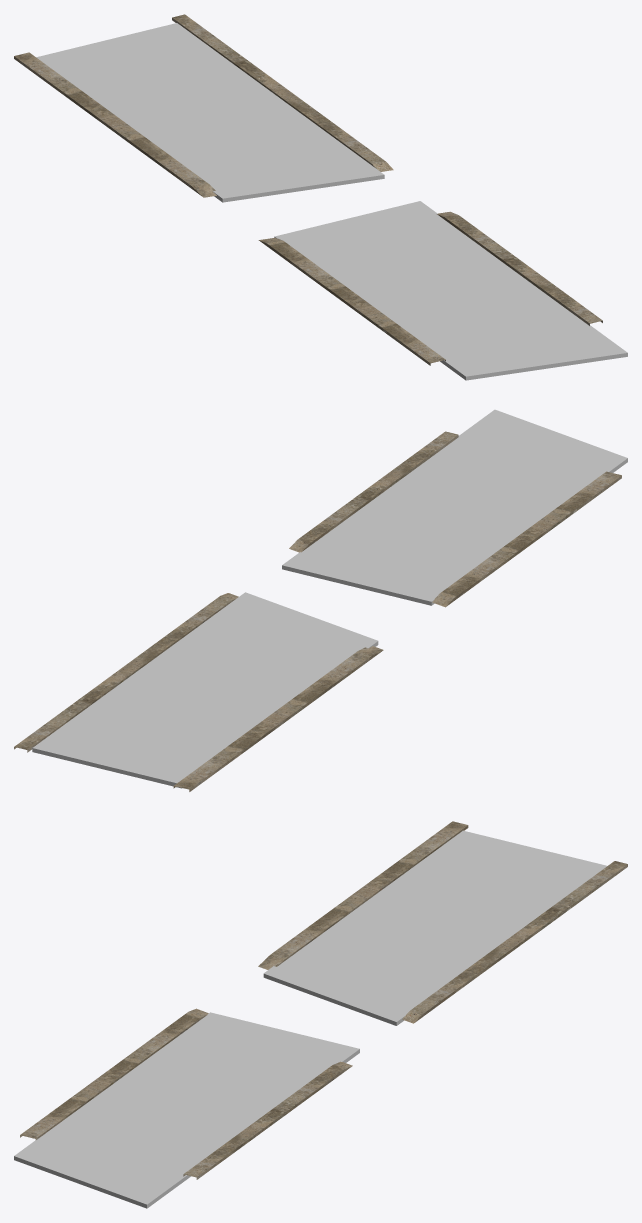
Rendered from calle.fbx.
3 renders of one model, top to bottom at view 1: azimuth 30°, elevation 25°; view 2: azimuth 150°, elevation 25°; view 3: azimuth 330°, elevation 25°, orthographic. The views are drawn at different scales.
Parts seen in each view (by area): view 1: Plano.005, Plano.006, Plano.003, Plano.002, Plano.004, Plano.001; view 2: Plano.005, Plano.006, Plano.003, Plano.004, Plano.002, Plano.001; view 3: Plano.005, Plano.006, Plano.002, Plano.003, Plano.004, Plano.001.
Part boxes in pixels (x1=…): Plano.005: x1=274, y1=201, x2=627, y2=380; Plano.006: x1=36, y1=23, x2=384, y2=202; Plano.003: x1=14, y1=52, x2=216, y2=197; Plano.002: x1=172, y1=14, x2=393, y2=171; Plano.004: x1=258, y1=238, x2=445, y2=365; Plano.001: x1=437, y1=211, x2=602, y2=325; Plano.005: x1=282, y1=409, x2=627, y2=605; Plano.006: x1=32, y1=592, x2=378, y2=788; Plano.003: x1=173, y1=646, x2=383, y2=791; Plano.004: x1=432, y1=471, x2=621, y2=607; Plano.002: x1=14, y1=593, x2=238, y2=752; Plano.001: x1=289, y1=431, x2=458, y2=552; Plano.005: x1=14, y1=1012, x2=359, y2=1208; Plano.006: x1=263, y1=830, x2=606, y2=1025; Plano.002: x1=402, y1=861, x2=627, y2=1023; Plano.003: x1=258, y1=821, x2=468, y2=969; Plano.004: x1=20, y1=1008, x2=208, y2=1140; Plano.001: x1=183, y1=1061, x2=352, y2=1179.
Size of the model in its own units: 32.61 by 1.19 by 148.
